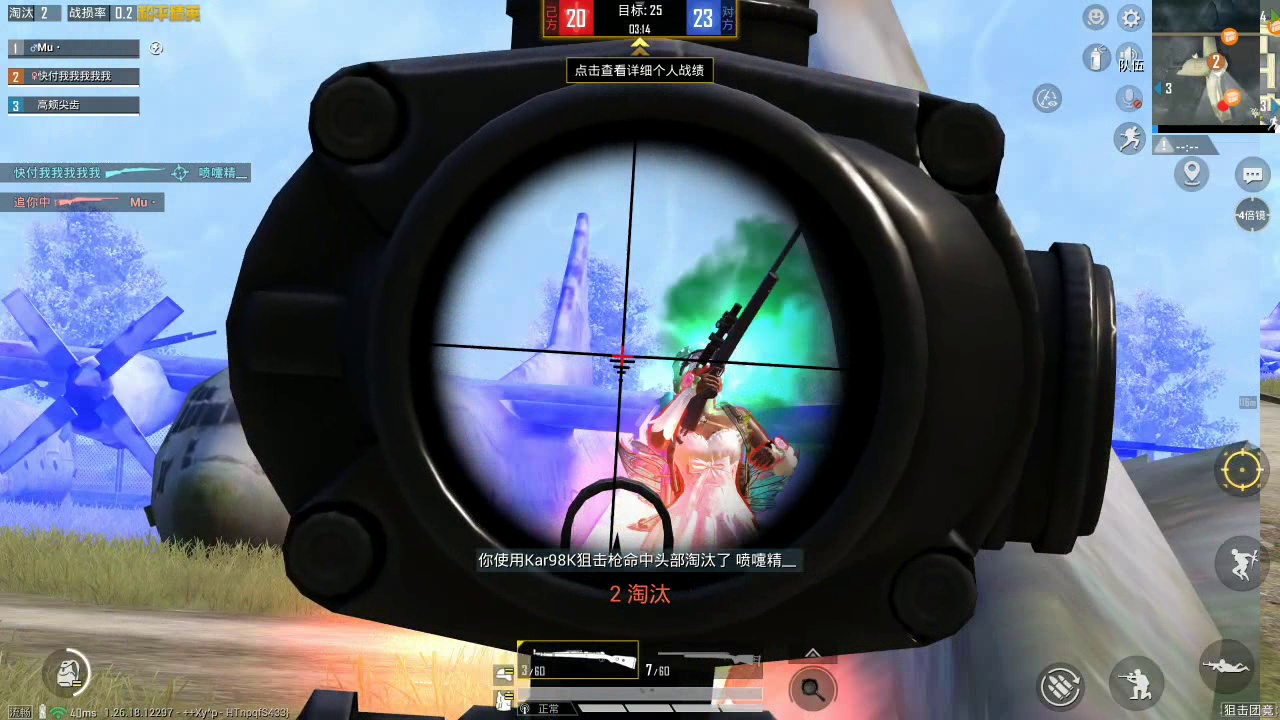enemy: (640, 338, 786, 555)
